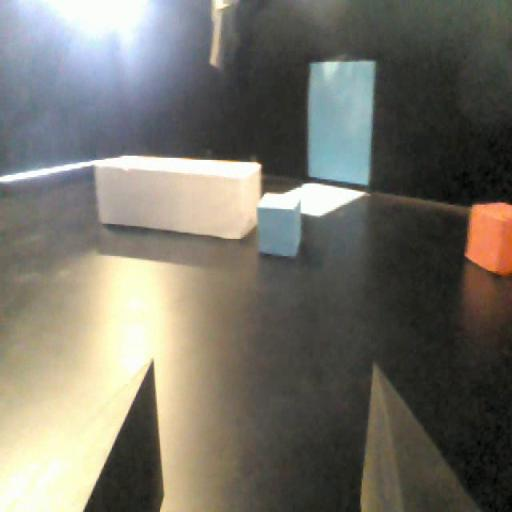cube: (459, 199, 511, 273), (253, 192, 307, 262)
